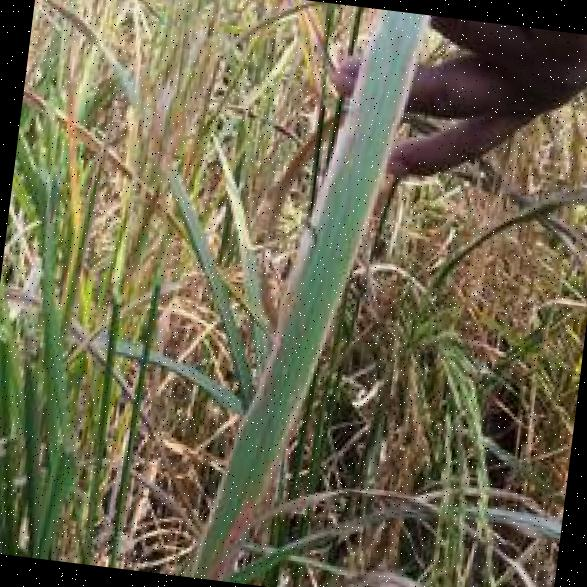Bacteria_Leaf_Blight: (229, 2, 388, 488)
